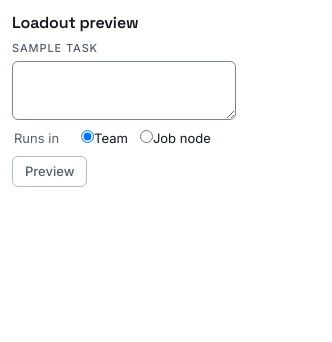
Test: LoadoutPreview › defaults to the team box and says when nothing would be shown
What coordinates should you click on to do the following:
click the button "Preview"
I would click on:
 (50, 171)
Its box is x1=12 y1=156 x2=88 y2=187.
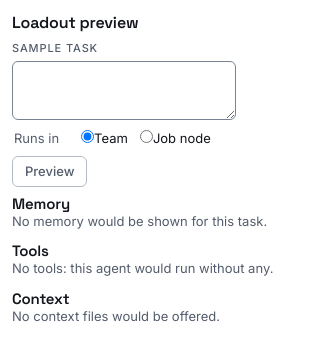
Check: the text "No memory would be shown for this task." is shown, box x1=12 y1=213 x2=267 y2=230
Check: the text "No tools: this agent would run without any." is shown, box x1=12 y1=260 x2=273 y2=278
Check: the text "No context files would be offered." is shown, box x1=12 y1=308 x2=220 y2=325
